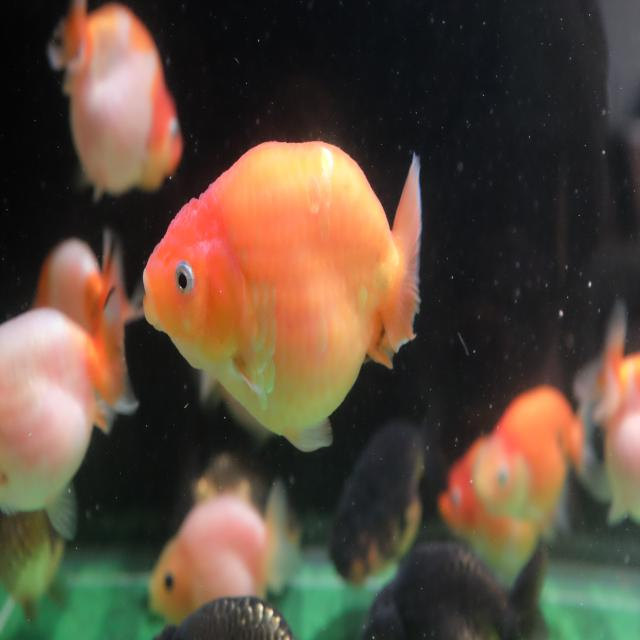Goldfish: (142, 136, 422, 454)
